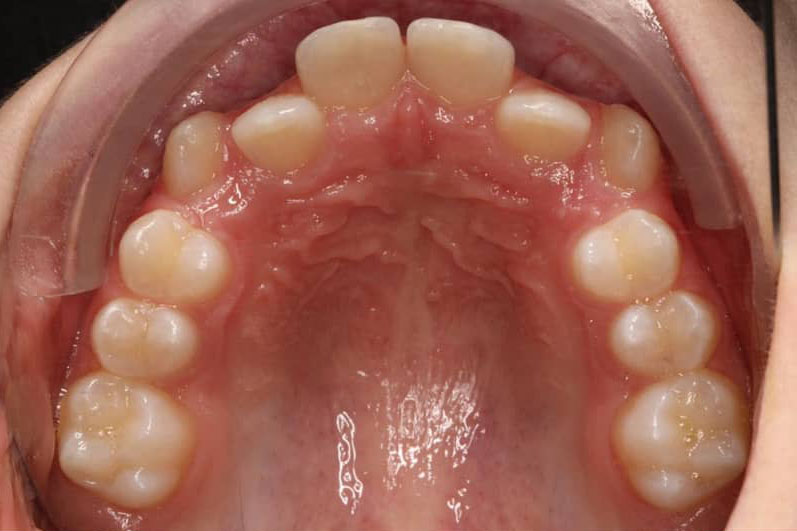UL1BC_healthy: (574, 214, 681, 301)
UL1M_healthy: (616, 369, 749, 510)
UL2BC_healthy: (609, 292, 719, 374)
ULCI_healthy: (406, 21, 510, 114)
ULC_healthy: (586, 104, 661, 194)
ULLI_healthy: (495, 92, 589, 157)
UR1BC_healthy: (116, 222, 238, 306)
UR1M_healthy: (56, 380, 196, 514)
UR2BC_healthy: (85, 300, 192, 383)
URCI_healthy: (294, 13, 405, 116)
URC_healthy: (158, 113, 234, 204)
URLI_healthy: (228, 96, 325, 174)
